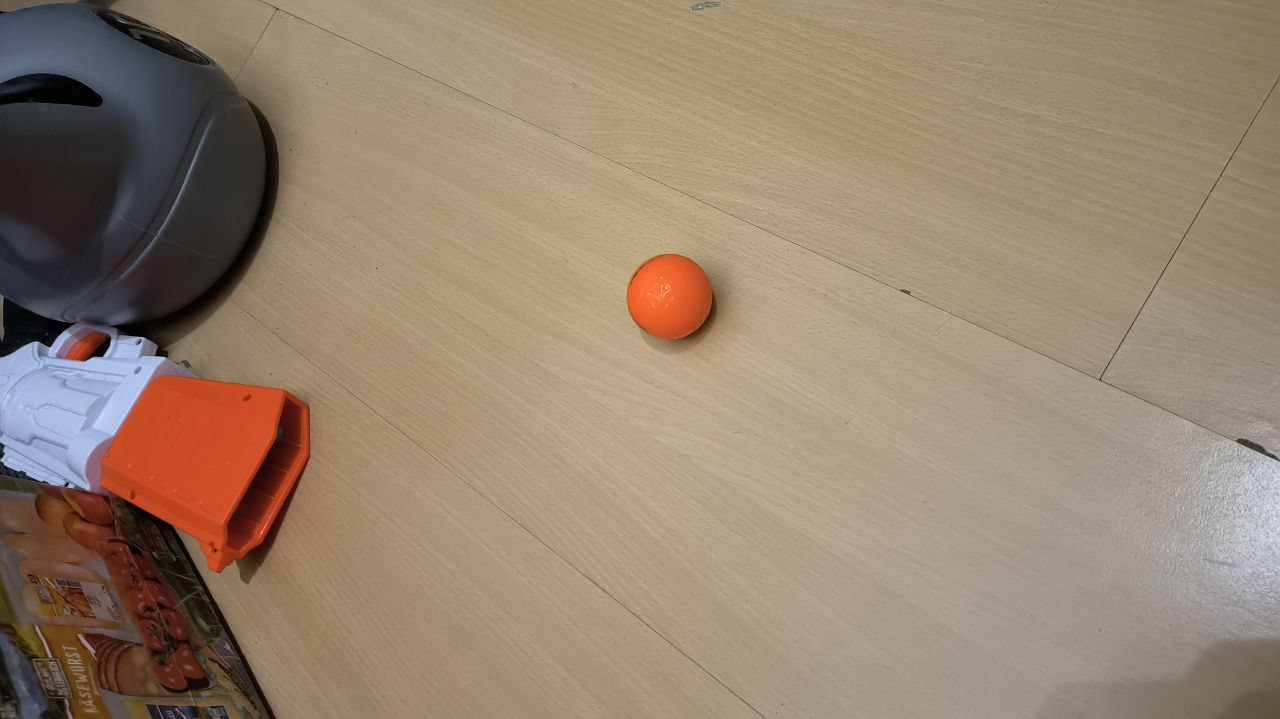orange_ball: (626, 253, 712, 340)
